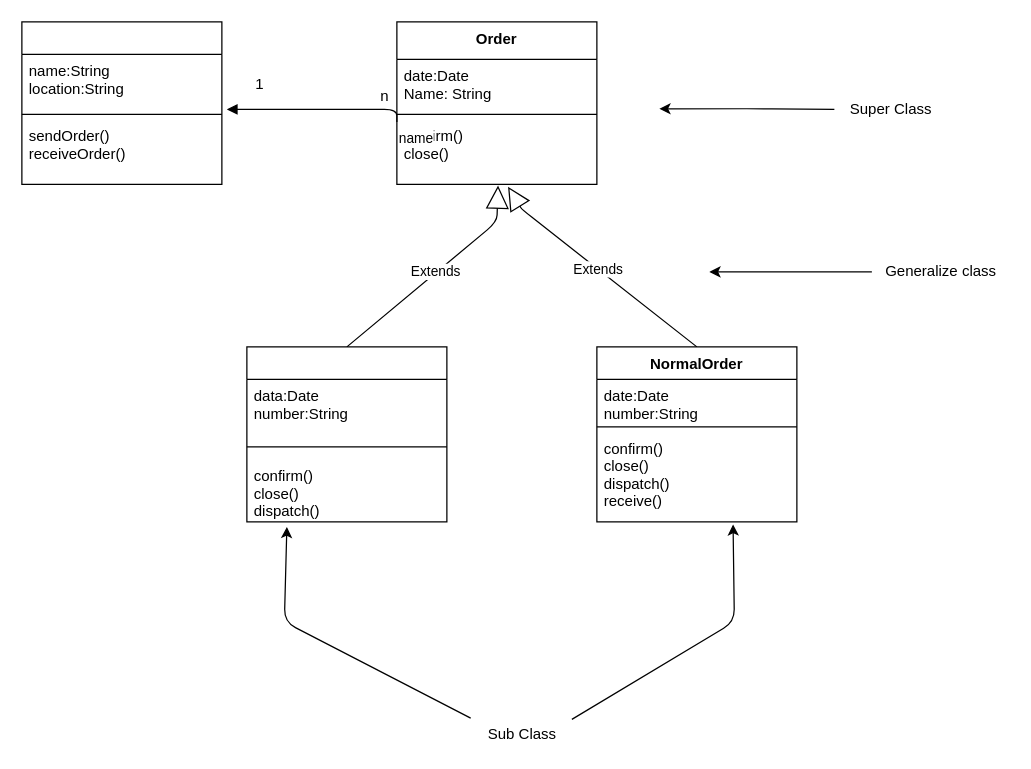
The diagram is 1031 pixels wide and 769 high, and some of its shapes have lost their labels. Here are the shapes that lost their labels. From the top down, the box of each, then its label:
(21, 21, 222, 184): Customer
(246, 346, 447, 522): SpecialOrder
